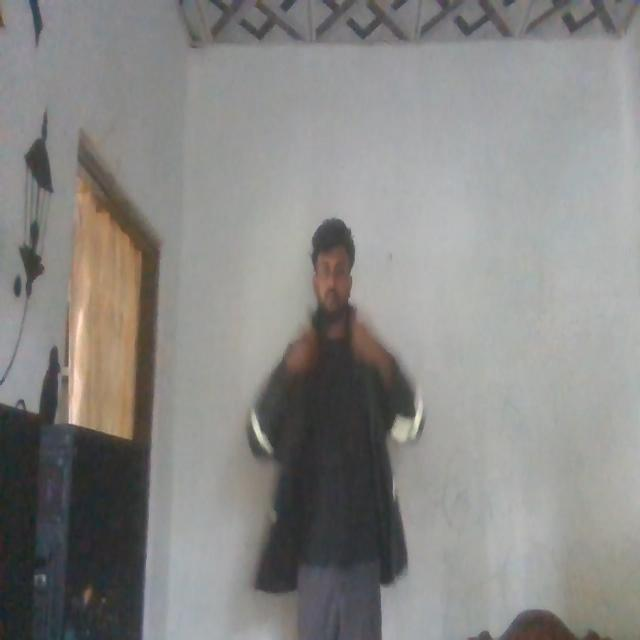Jacket_Wearer: (250, 308, 422, 576)
Person: (247, 214, 425, 640)
